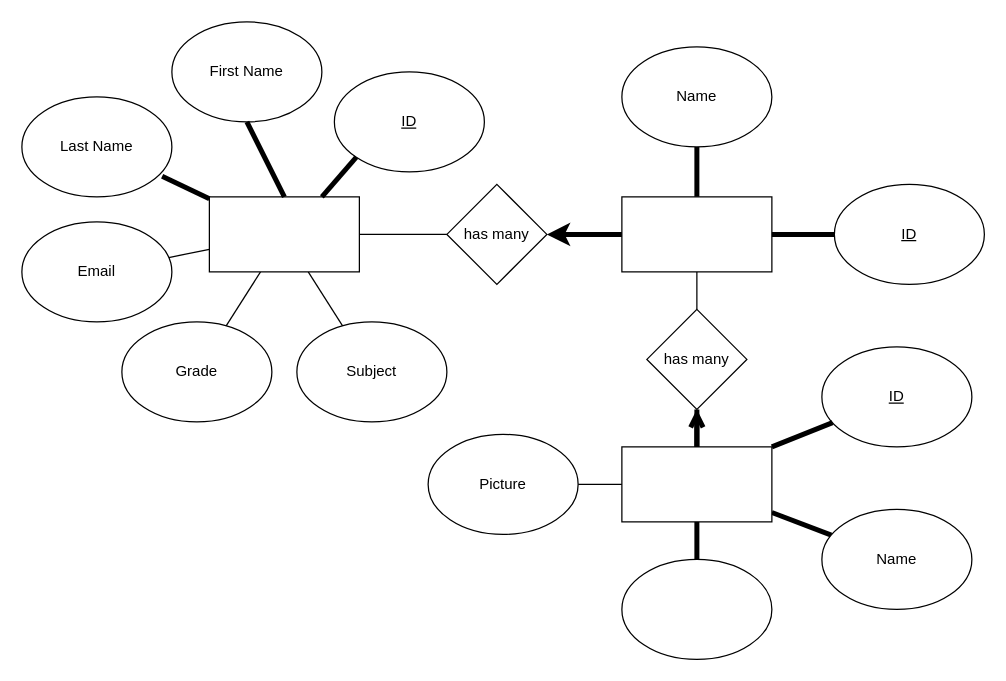
This 1006x681 diagram has some shape labels left out. Each missing label, with the box of its shape:
Activities: (621, 446, 772, 522)
Duration: (621, 558, 772, 659)
Schedule: (621, 196, 772, 272)
Teacher (User): (208, 196, 359, 272)
